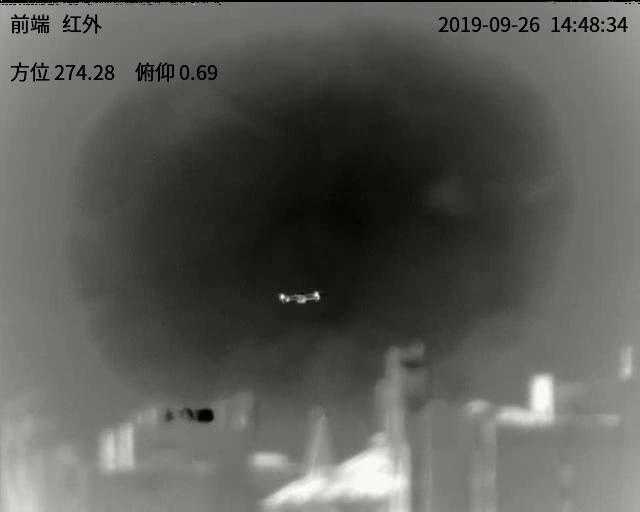DRONE: (276, 289, 322, 306)
